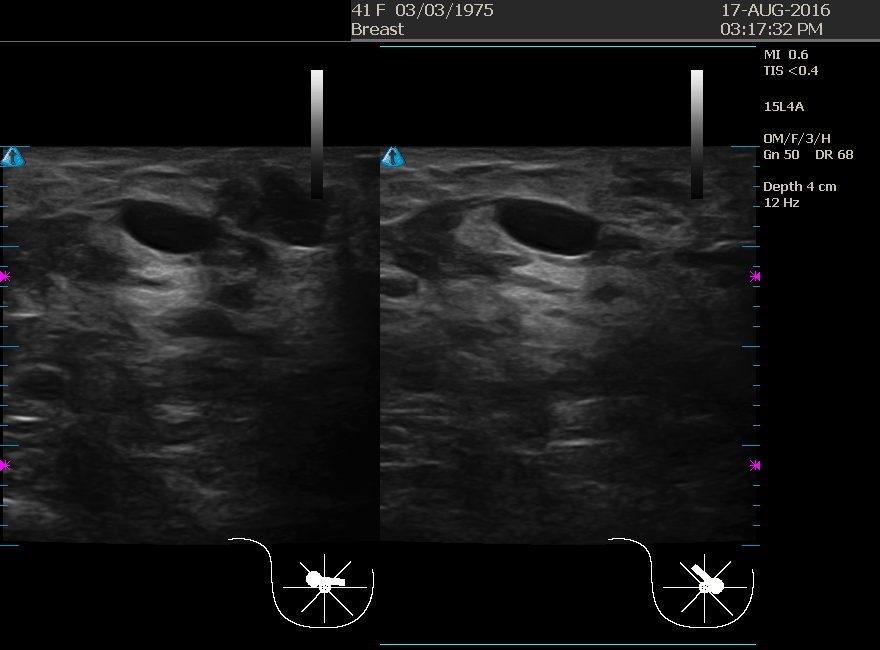BIRADS_2: (59, 154, 259, 354)
BIRADS_3: (463, 151, 663, 351)
